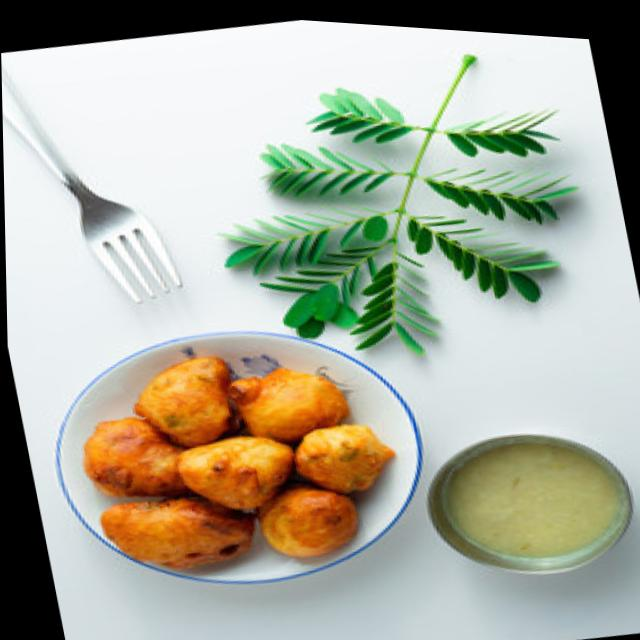BONDA: (75, 353, 403, 571)
